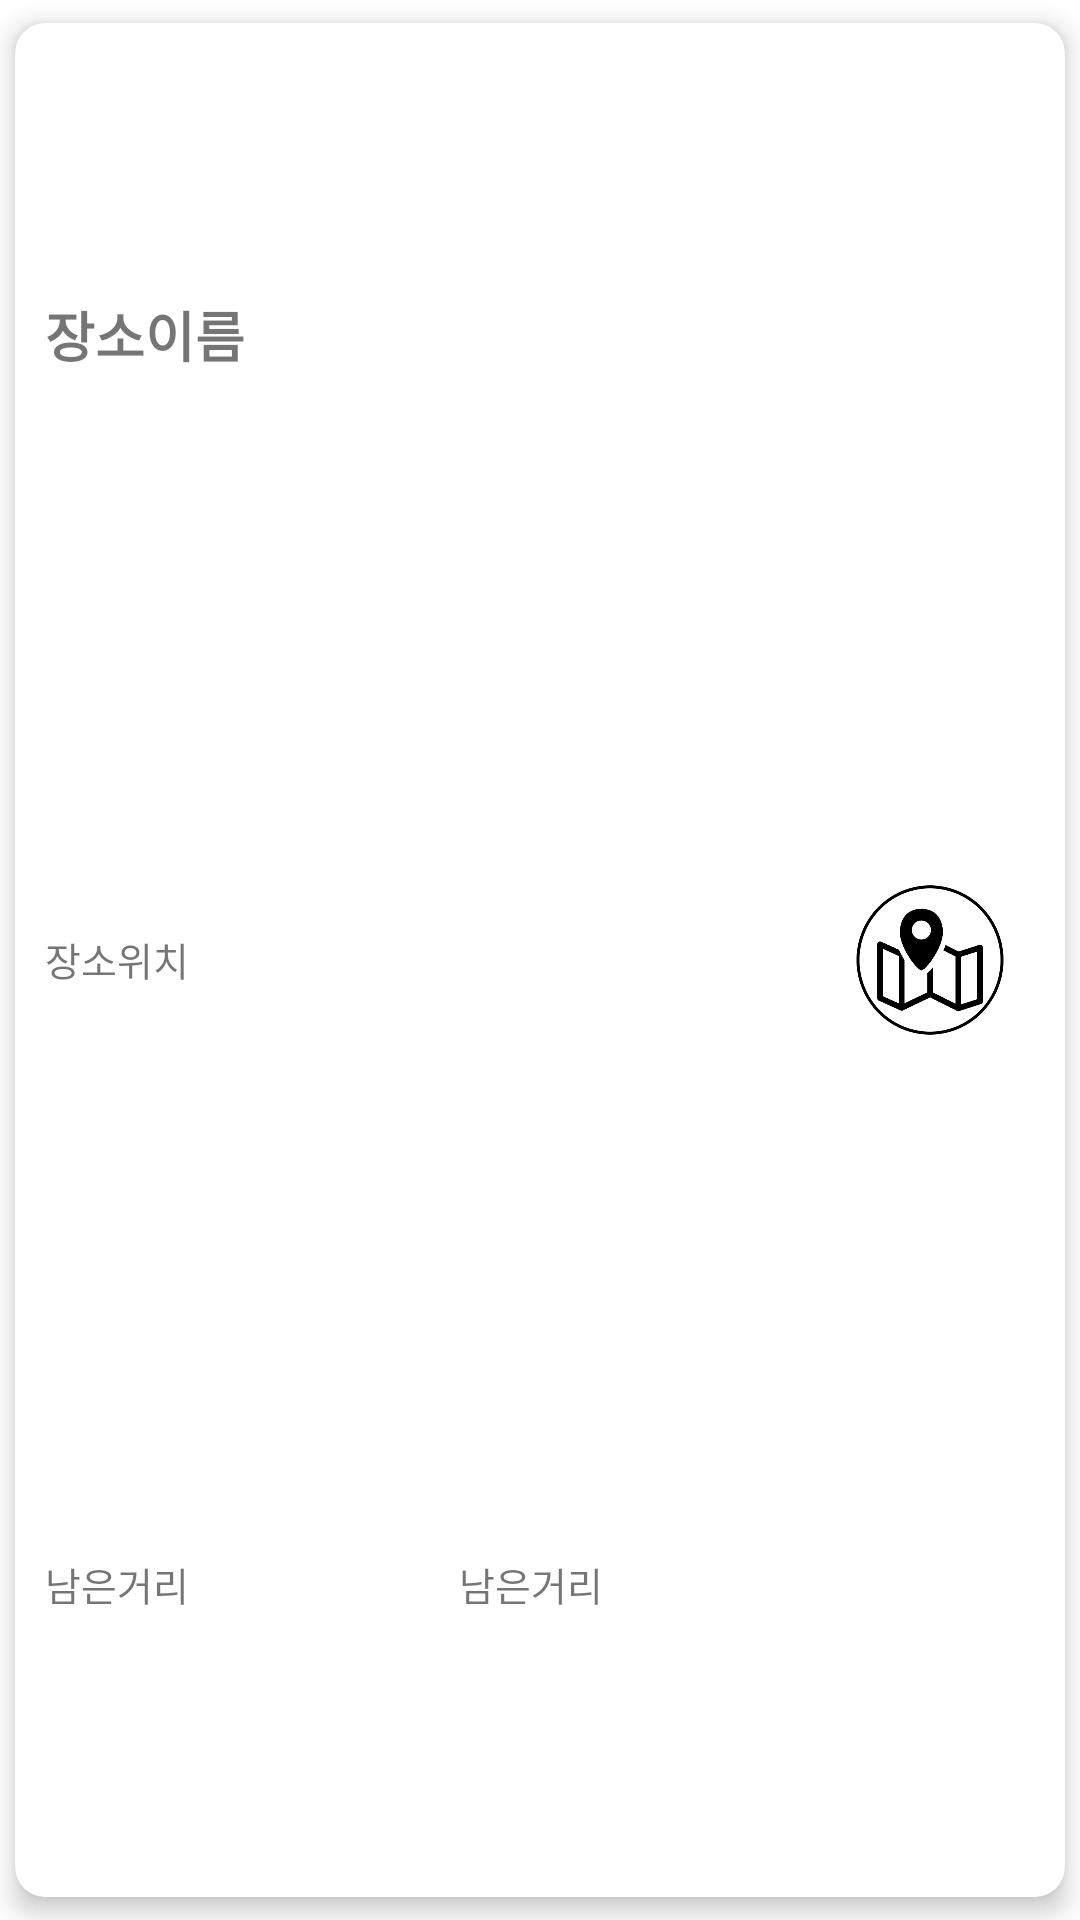

Screen size 1080x1920. Icon name, then its box in pixels as box(x1, y1, x2, y2):
route check: box(856, 885, 1004, 1035)
